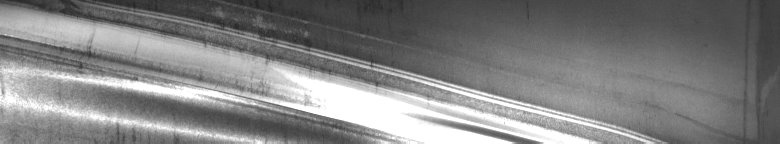ke: (4, 4, 645, 136)
